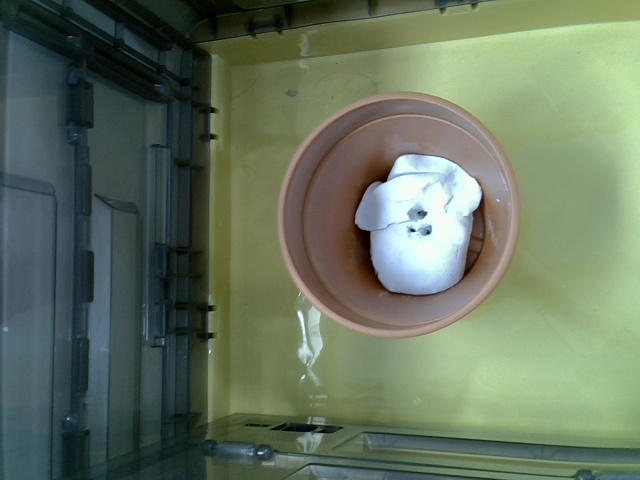화분: (277, 92, 521, 337)
